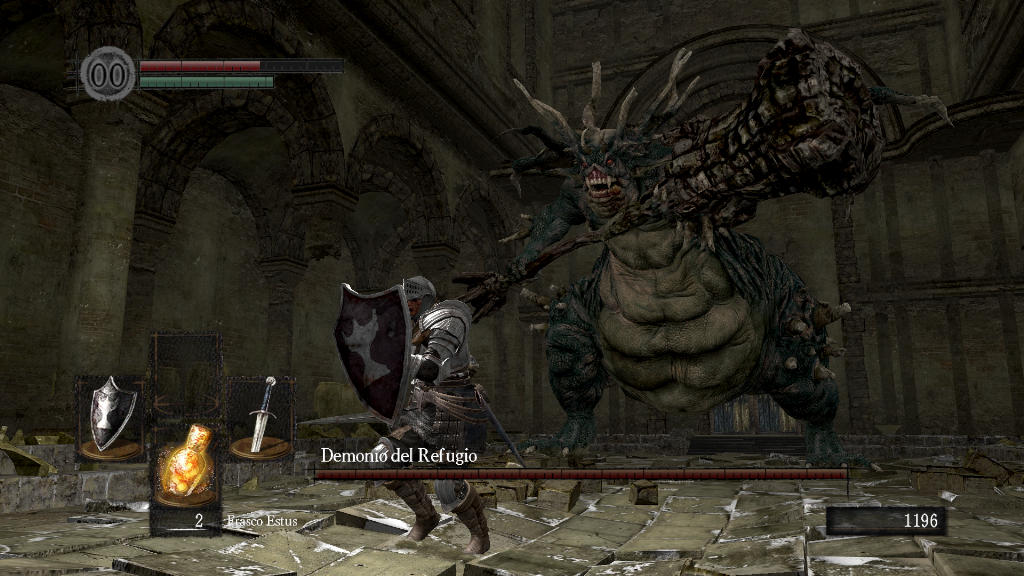asylumDemon: (448, 29, 885, 463)
bossHP: (314, 469, 847, 479)
health: (138, 58, 343, 71)
humanity: (80, 45, 136, 102)
player: (333, 276, 493, 557)
souls: (825, 506, 945, 536)
stamina: (138, 74, 274, 88)
